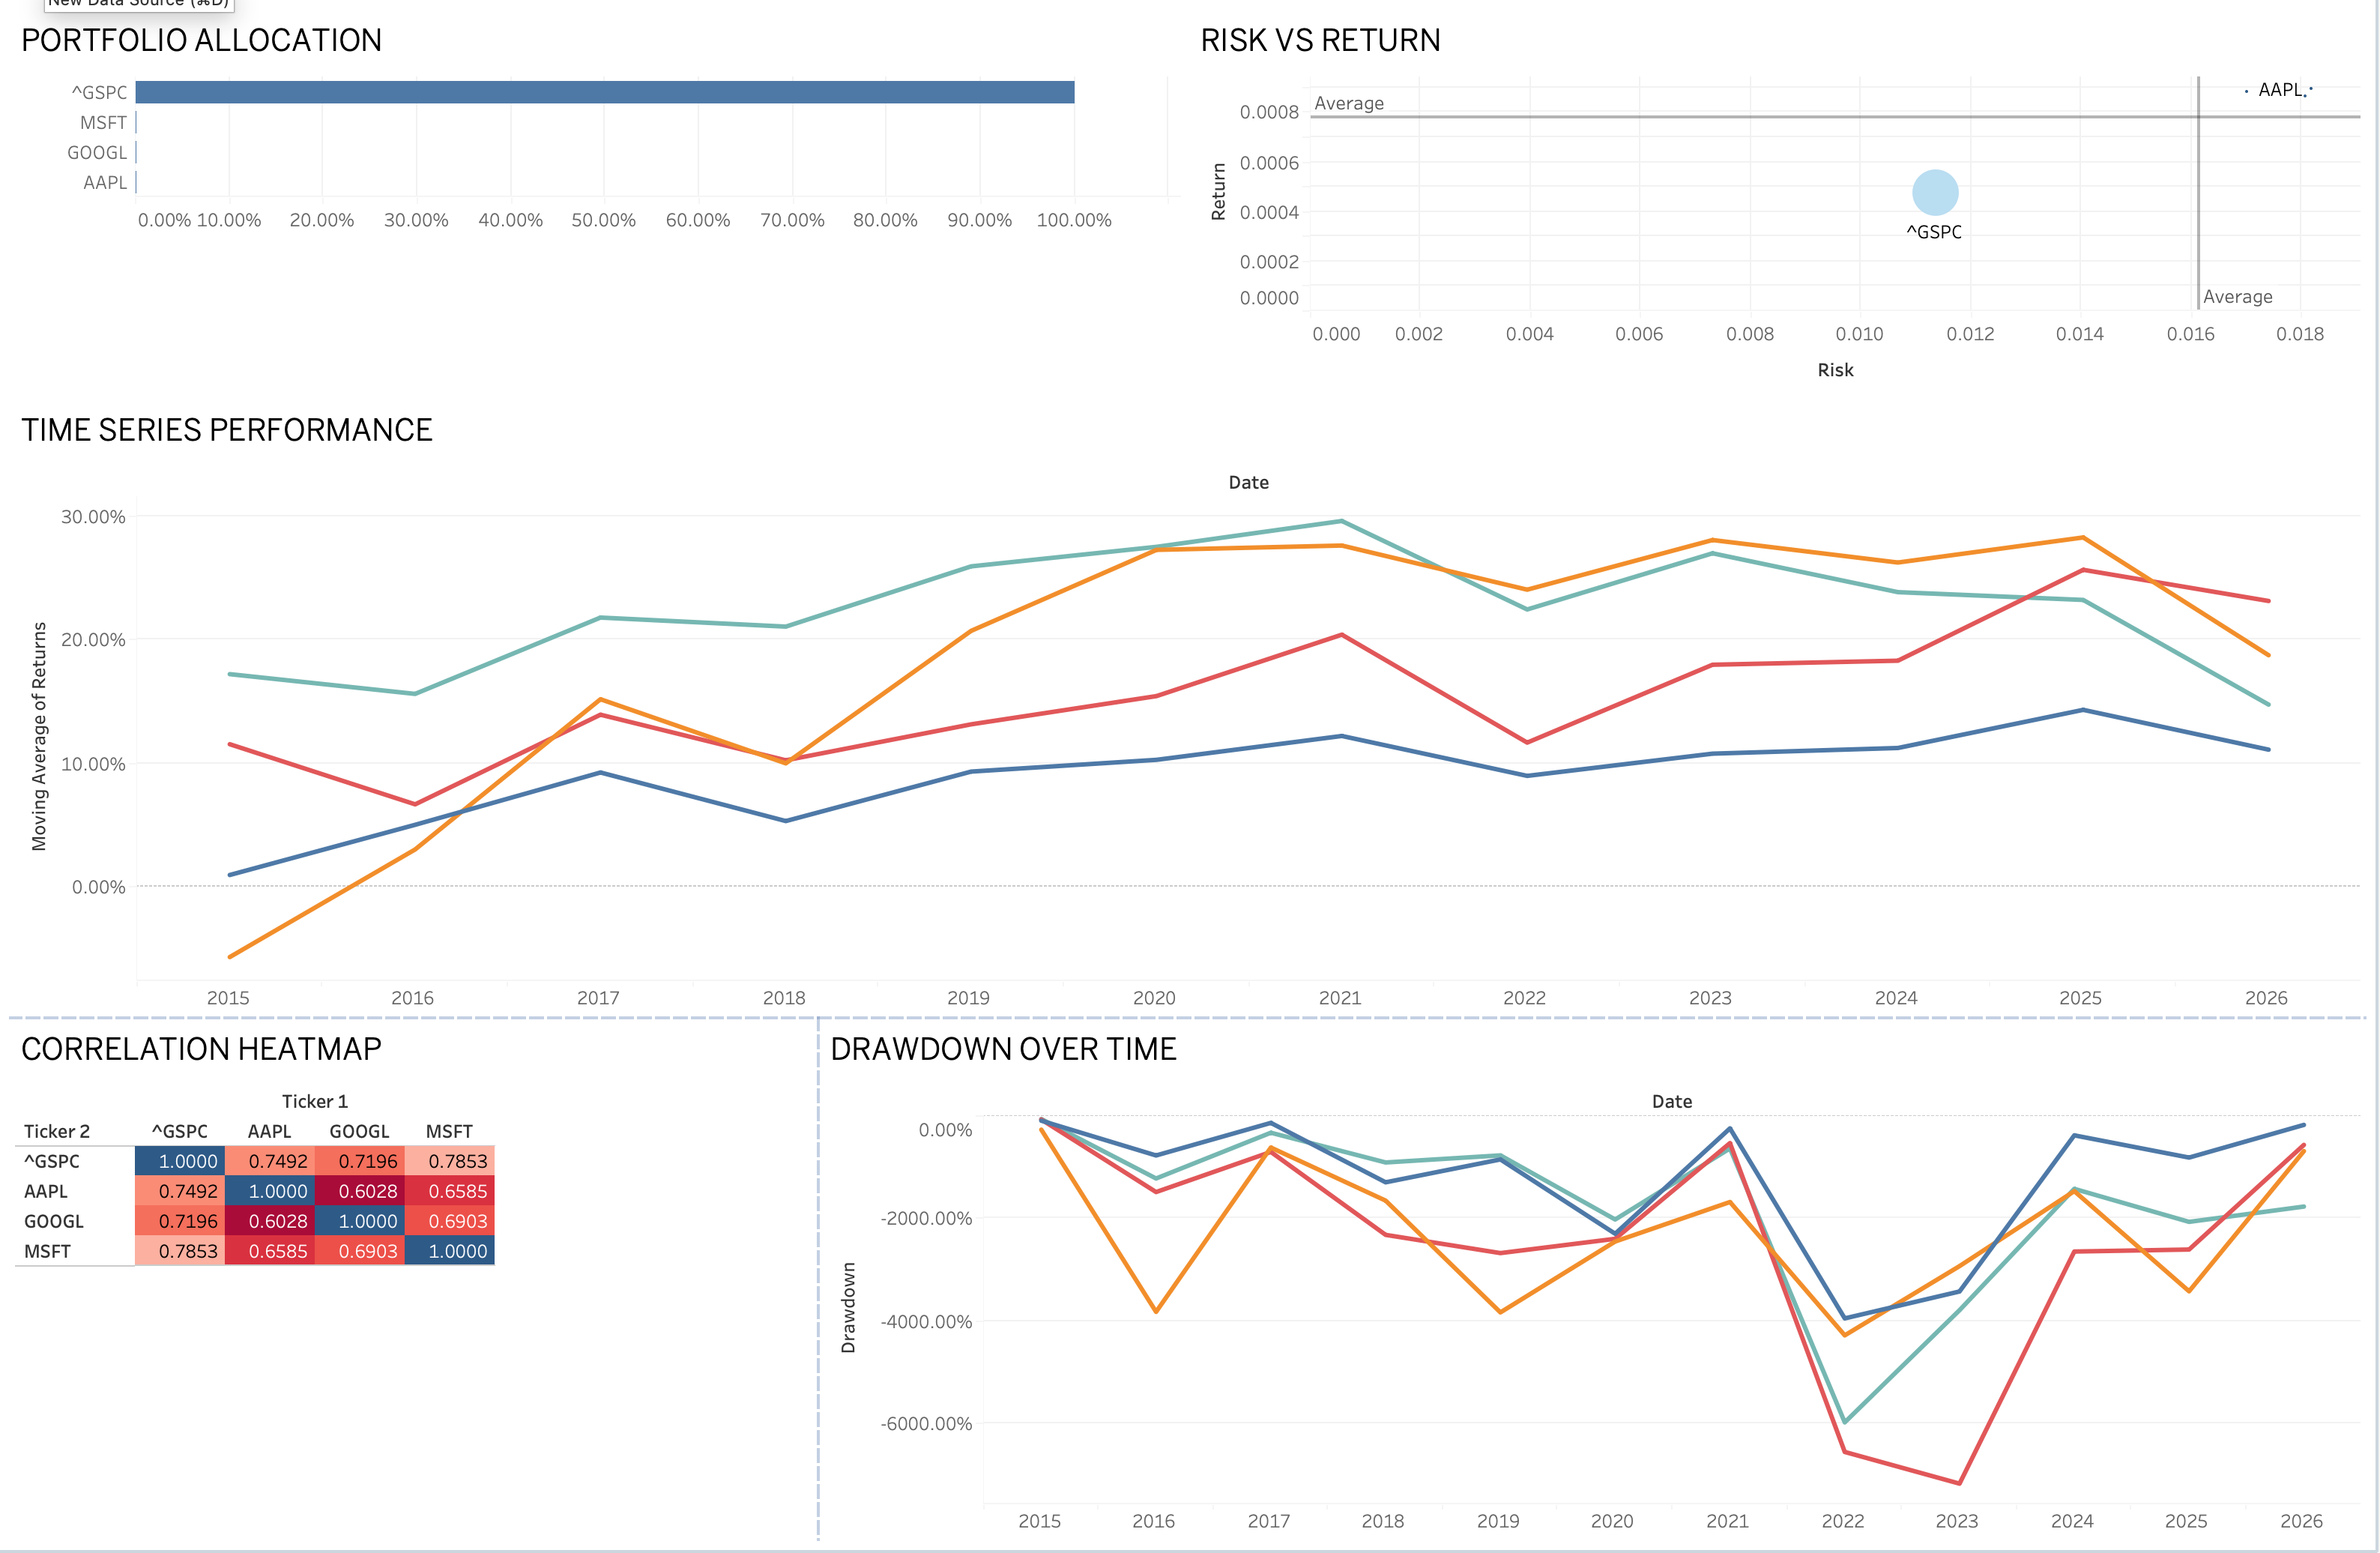

This screenshot's page, from the dashboard's own definition file:
{"tool":"tableau","page":{"name":"Dashboard 1","canvas":[1000,1000],"units":"permille","ordinal":0},"visuals":[{"type":"worksheet","title":"Sheet 1","mark":"Bar","rows":["ticker"],"cols":["weight"],"box":[5,7.7,495,250.2]},{"type":"worksheet","title":"Sheet 2","mark":"Circle","rows":["expected_return"],"cols":["volatility"],"box":[500,7.7,495,250.2]},{"type":"worksheet","title":"Sheet 3","mark":"Automatic","cols":["date"],"box":[5,257.9,989.9,398.2]},{"type":"worksheet","title":"Sheet 4","mark":"Square","rows":["ticker_2"],"cols":["ticker_1"],"box":[5,656.1,339.8,336.2]},{"type":"worksheet","title":"Sheet 5","mark":"Automatic","rows":["drawdown"],"cols":["date"],"box":[344.9,656.1,650.1,336.2]}]}

Visuals, with their boxes on the dashboard's canvas, which has no fixed pixel size, in thousandths of its width and height (x1, y1, x2, y2). These are canvas units, not pixel positions in the 2380x1553 screenshot, which may show the page scaled, cropped or inside an application window:
"Sheet 1" worksheet (Bar marks): (5,8,500,258)
"Sheet 2" worksheet (Circle marks): (500,8,995,258)
"Sheet 3" worksheet: (5,258,995,656)
"Sheet 4" worksheet (Square marks): (5,656,345,992)
"Sheet 5" worksheet: (345,656,995,992)
